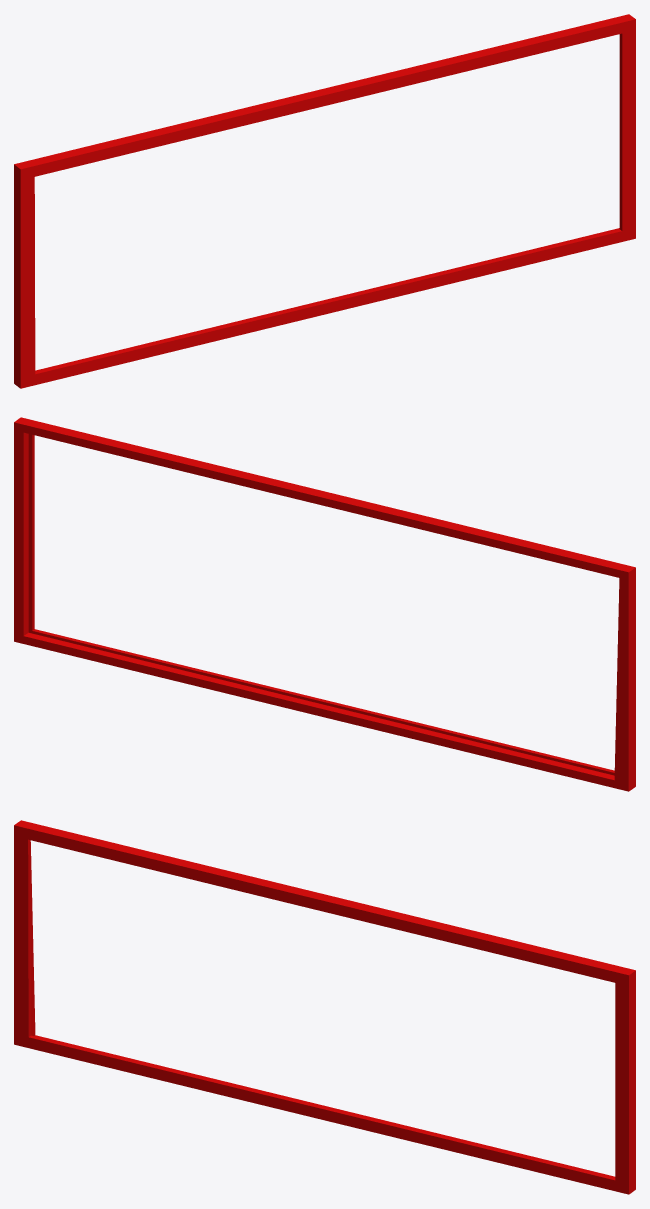
File: Restaurant_02_Wall_Orn_02.fbx
3 views of the same model, one above another, from view 1: azimuth 30°, elevation 25°; view 2: azimuth 150°, elevation 25°; view 3: azimuth 330°, elevation 25° (orthographic).
Visible parts, largest first — view 1: Restaurant_02_Wall_Orn_02; view 2: Restaurant_02_Wall_Orn_02; view 3: Restaurant_02_Wall_Orn_02.
Boxes of the visible parts, x1=… form: Restaurant_02_Wall_Orn_02: x1=14, y1=14, x2=635, y2=388; Restaurant_02_Wall_Orn_02: x1=14, y1=417, x2=635, y2=791; Restaurant_02_Wall_Orn_02: x1=14, y1=820, x2=635, y2=1194.
Bounding box in the file's own units: 562 × 191 × 10.93.
